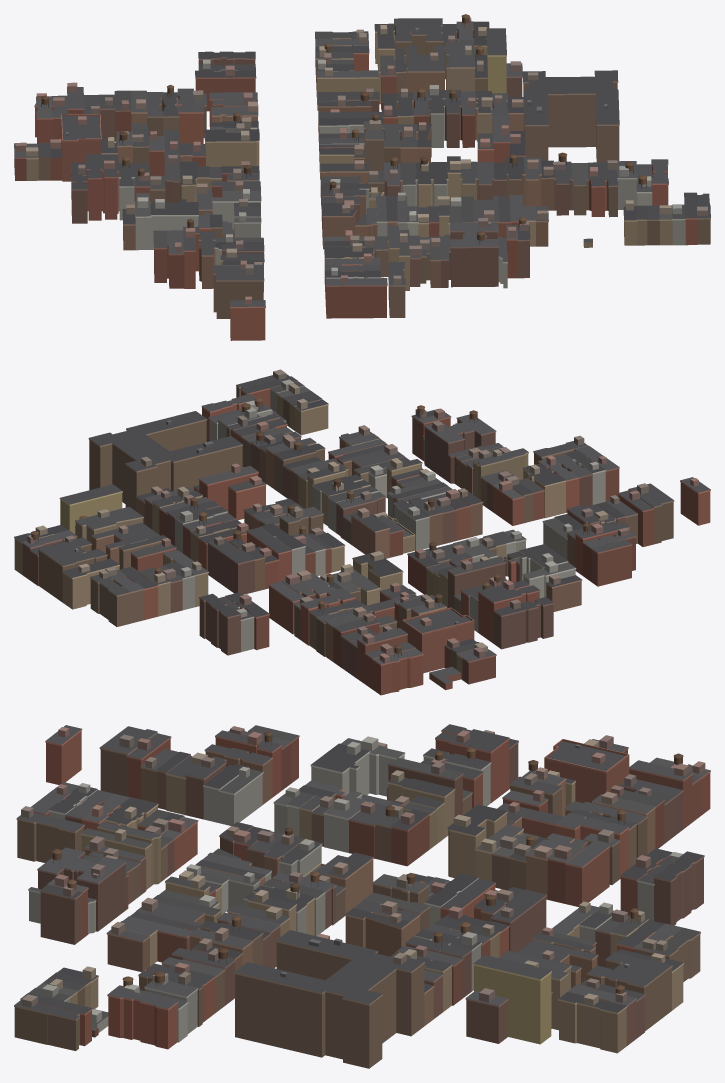
The model's file is -2_1.bld.glb.
3 renders of one model, top to bottom at view 1: azimuth 30°, elevation 25°; view 2: azimuth 150°, elevation 25°; view 3: azimuth 270°, elevation 25°, orthographic. The views are drawn at different scales.
Parts seen in each view (by area): view 1: -2_1; view 2: -2_1; view 3: -2_1.
Boxes of the visible parts, x1=… form: -2_1: x1=14, y1=14, x2=710, y2=340; -2_1: x1=14, y1=369, x2=710, y2=695; -2_1: x1=14, y1=724, x2=710, y2=1068.
Bounding box in the file's own units: 287 × 31.39 × 279.
